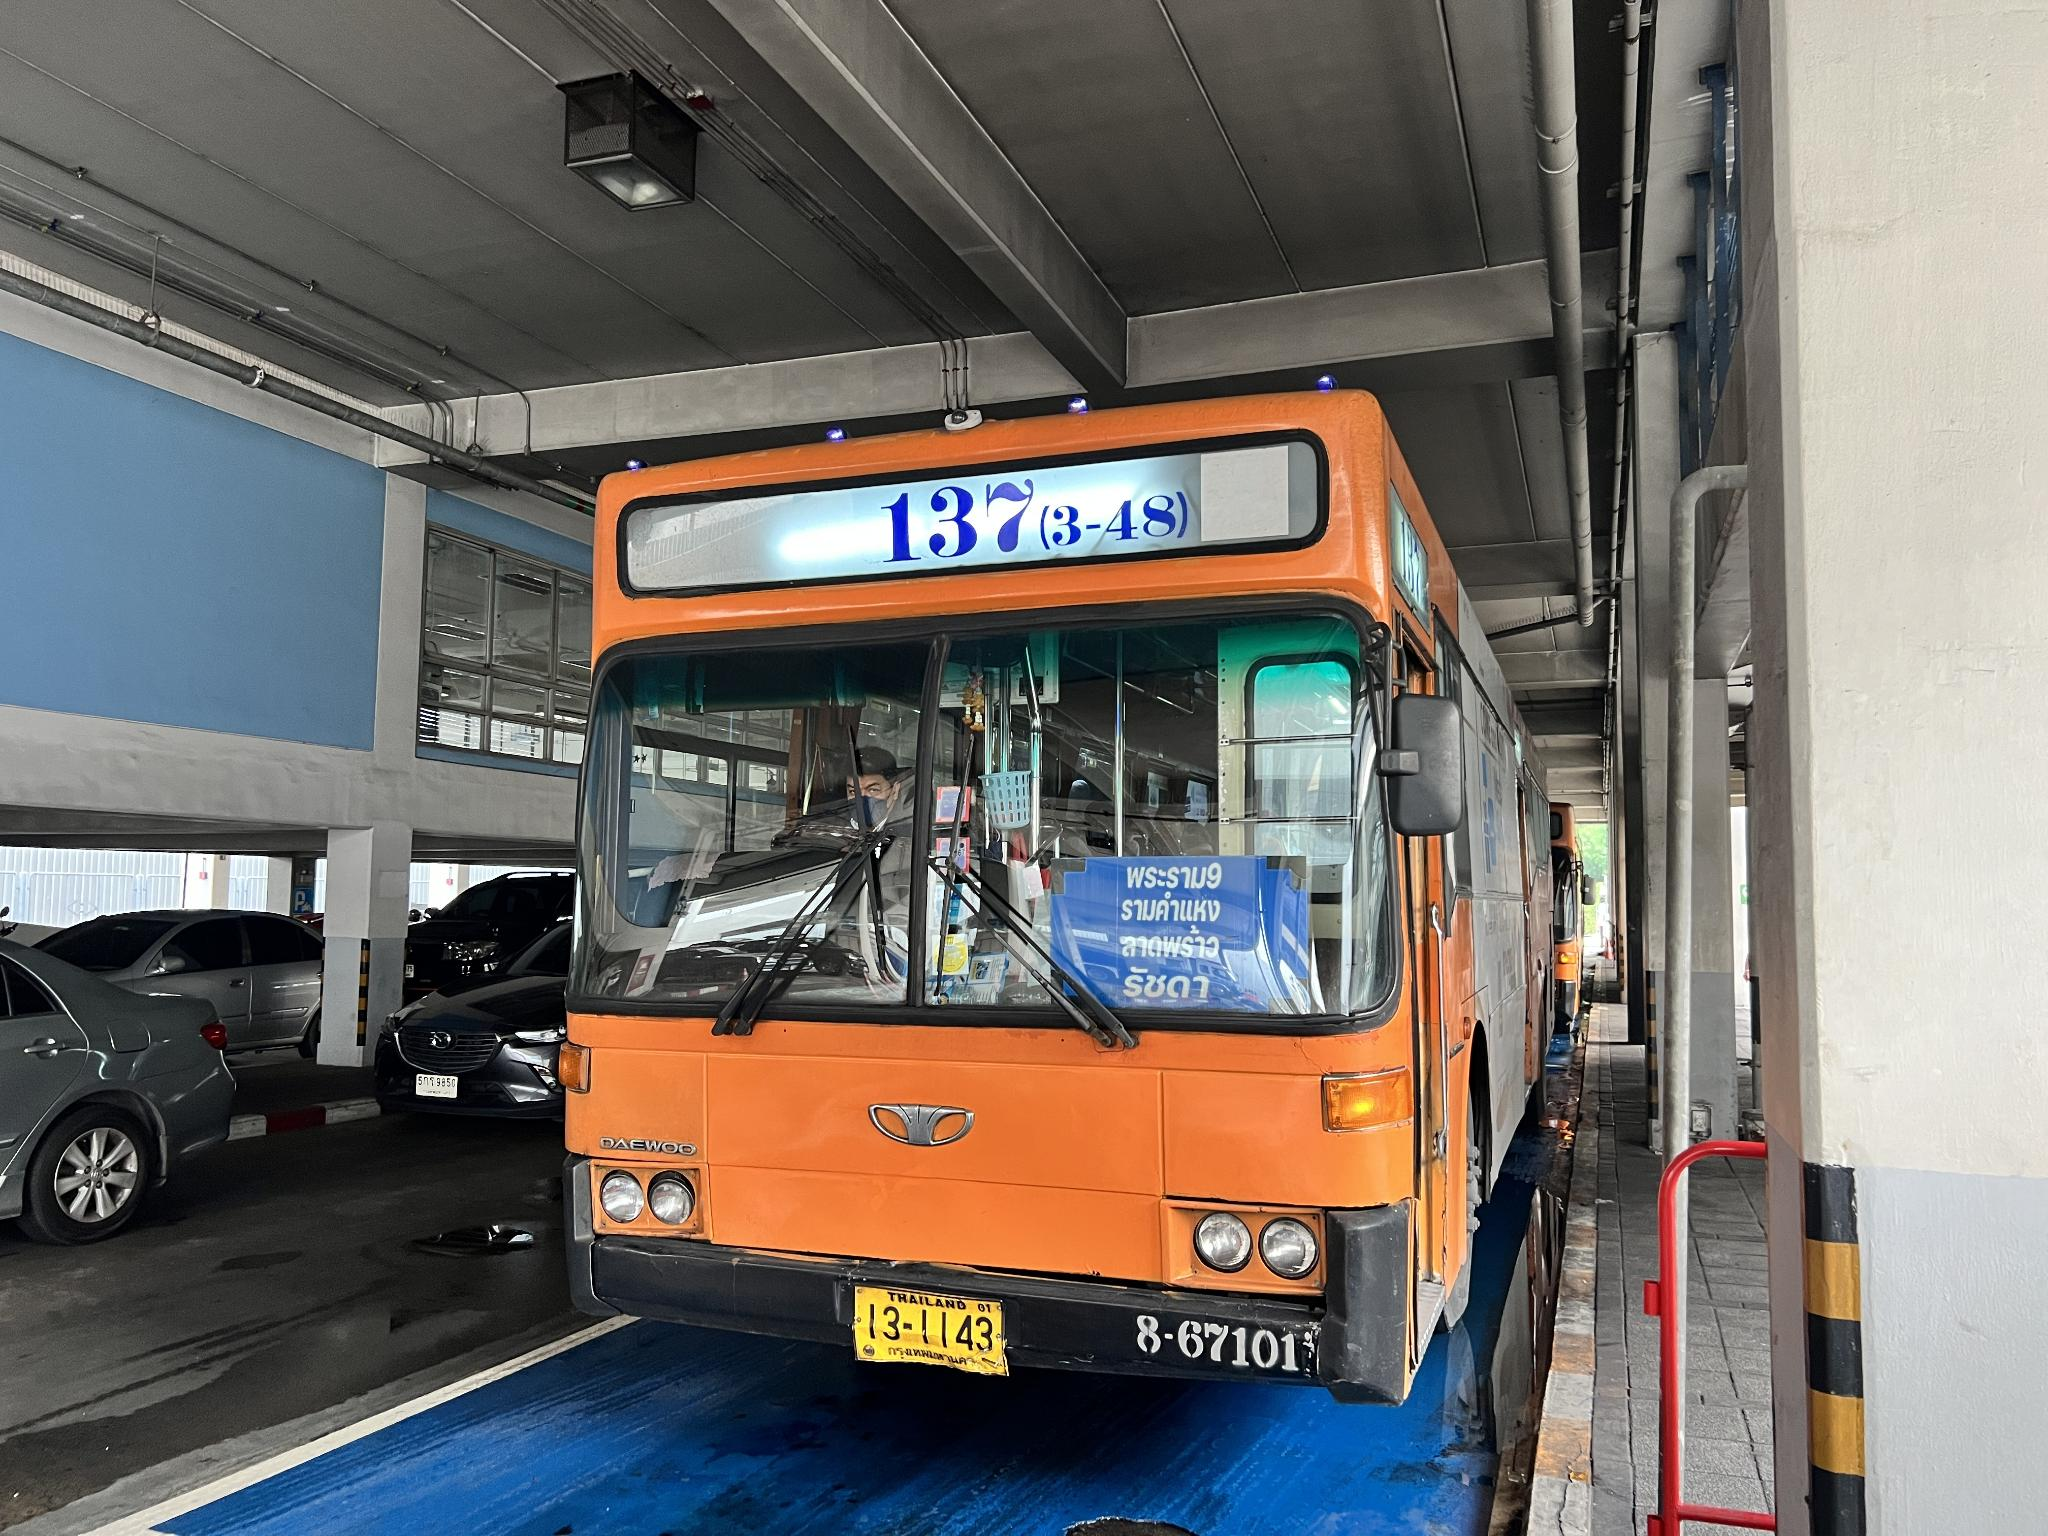BMTA-bus: (556, 387, 1551, 1410)
Bus Line Number: (855, 463, 1195, 570)
Bus Side Number: (1116, 1302, 1311, 1384)
Destination Sign: (1047, 849, 1309, 1013)
